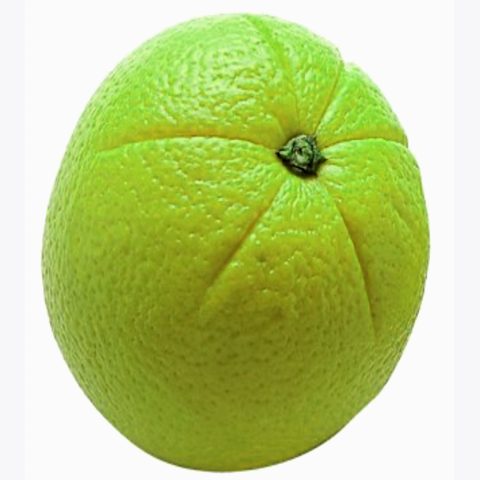orange: (28, 10, 465, 479)
